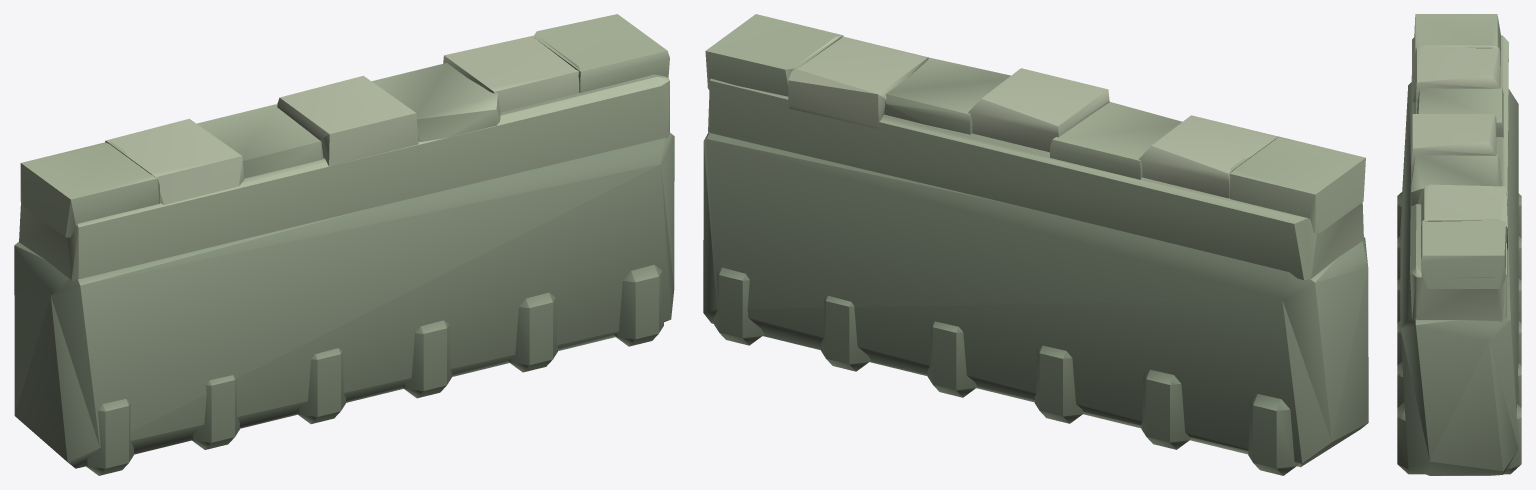
Rendered from hedge.lod1.glb.
3 views of the same model, side by side, from view 1: azimuth 30°, elevation 25°; view 2: azimuth 150°, elevation 25°; view 3: azimuth 270°, elevation 25° (orthographic). The views are drawn at different scales.
Bounding box in the file's own units: 4 × 1.77 × 0.84.
